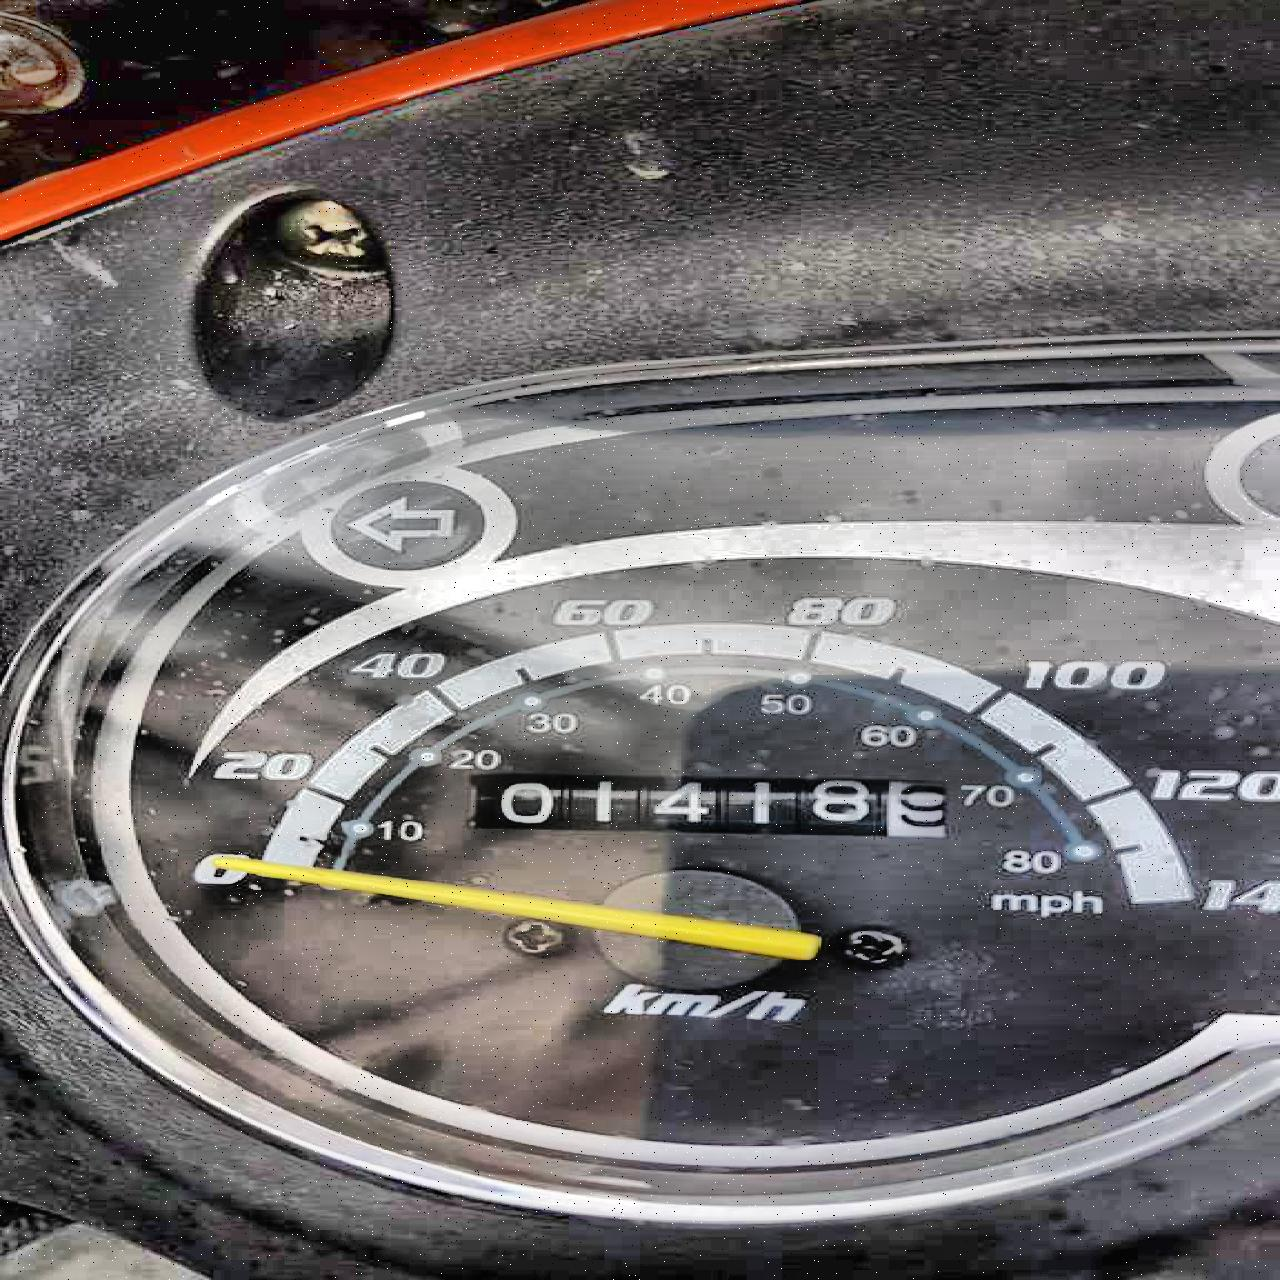0: (493, 779, 558, 825)
1: (580, 775, 625, 825), (736, 777, 782, 825)
4: (647, 777, 713, 825)
8: (804, 776, 876, 823)
9: (888, 779, 949, 829)
odometer: (459, 769, 951, 840)
